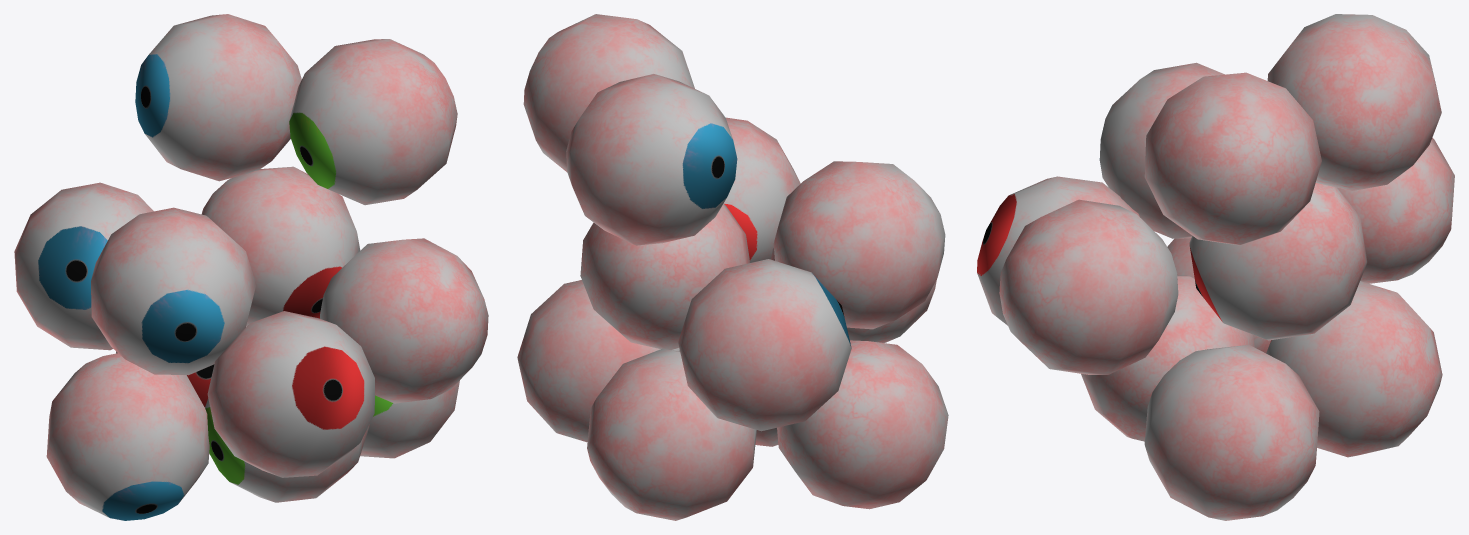
File: Eyes.fbx
3 renders of one model, left to right at view 1: azimuth 30°, elevation 25°; view 2: azimuth 150°, elevation 25°; view 3: azimuth 270°, elevation 25°, orthographic. The views are drawn at different scales.
Parts seen in each view (by area): view 1: pSphere36; view 2: pSphere36; view 3: pSphere36.
Part boxes in pixels (bbox=[...]): pSphere36: bbox=[14, 14, 488, 520]; pSphere36: bbox=[517, 14, 948, 520]; pSphere36: bbox=[977, 14, 1454, 520].
Bounding box in the file's own units: 5.37 × 5.36 × 5.33.
Materials: 10 (10 with a texture image).
